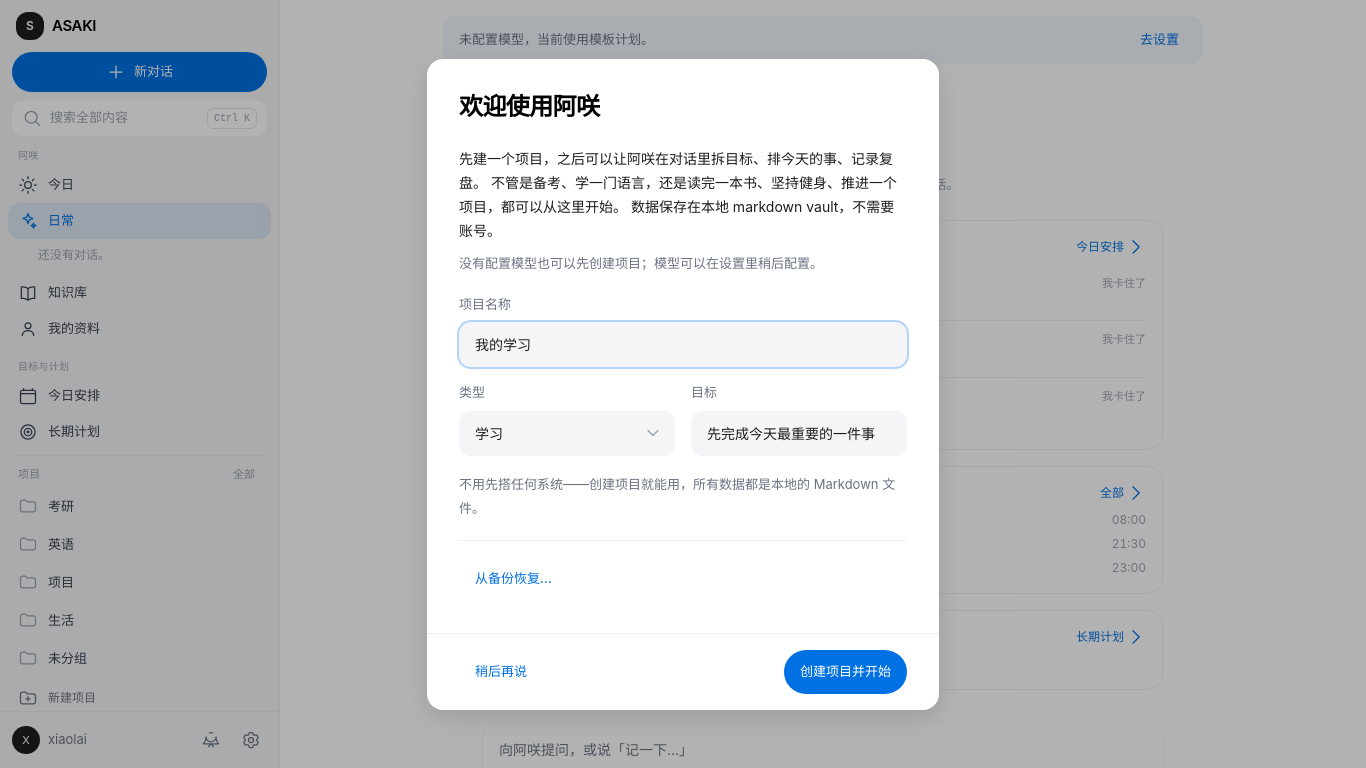
Test case: locks the first-run controls while the workspace is being created
The image size is (1366, 768).
Expected: the heading "欢迎使用阿咲" is shown, [459,92,599,120]
Step 1. Click the button "创建项目并开始" → (846, 672), box [784,650,907,694]
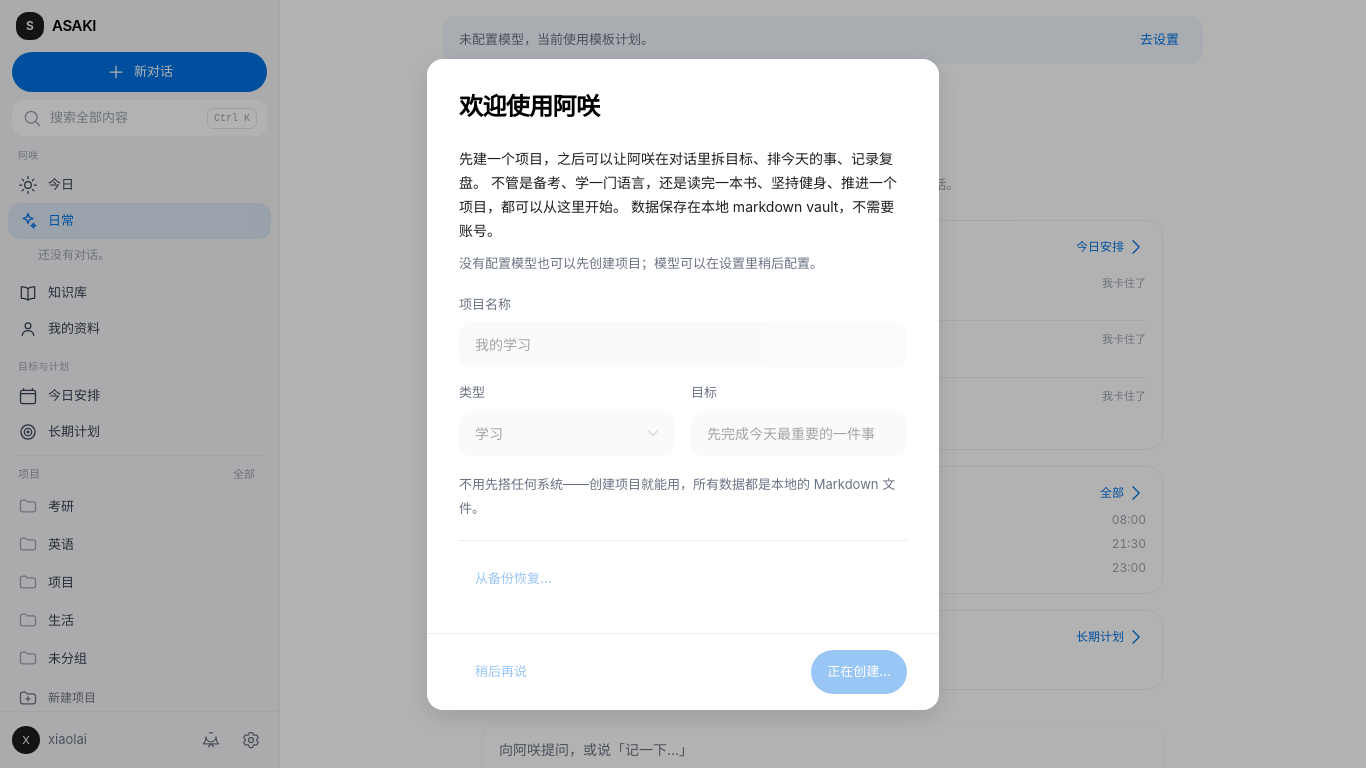
Result: the field labelled "项目名称" is disabled at [459,322,907,367]
Result: the dropdown named "类型" is disabled at [459,410,675,456]
Result: the field labelled "目标" is disabled at [691,410,907,456]
